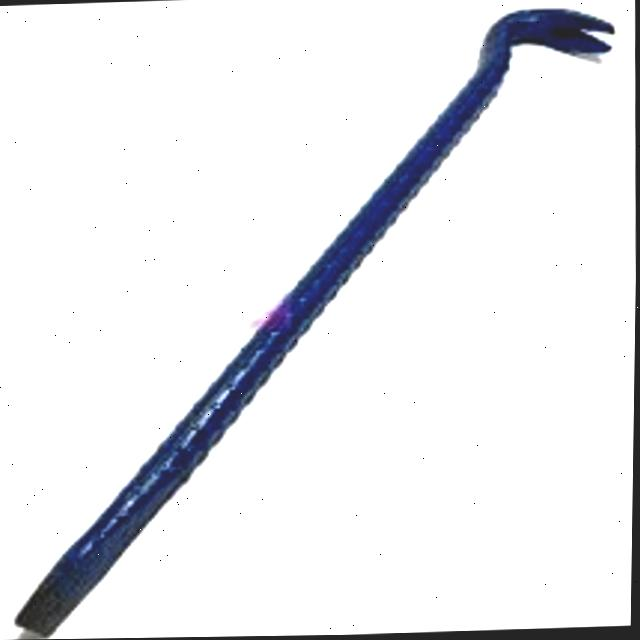crow bar: (0, 0, 636, 640)
